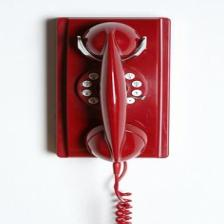red: (48, 18, 171, 224)
